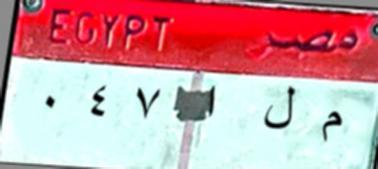0: (37, 84, 68, 119)
4: (83, 78, 118, 124)
7: (128, 86, 168, 124)
alif: (203, 84, 222, 118)
laam: (257, 84, 299, 133)
meem: (314, 104, 347, 152)
